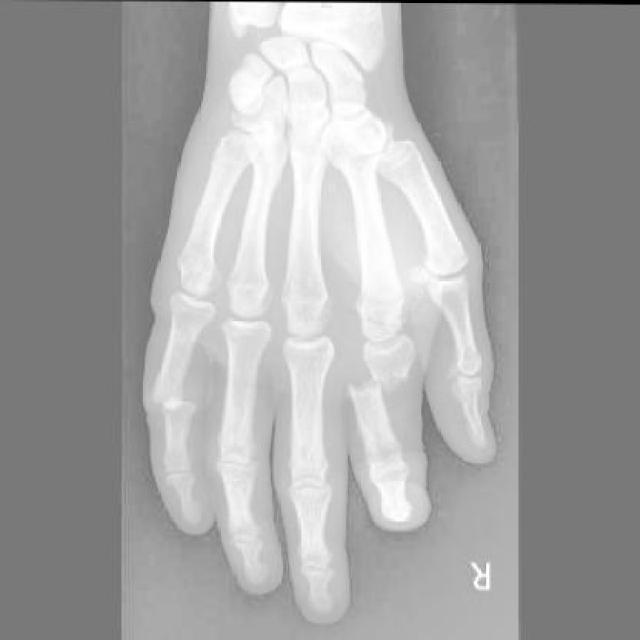Fracture: (346, 363, 424, 414), (149, 382, 202, 435)
